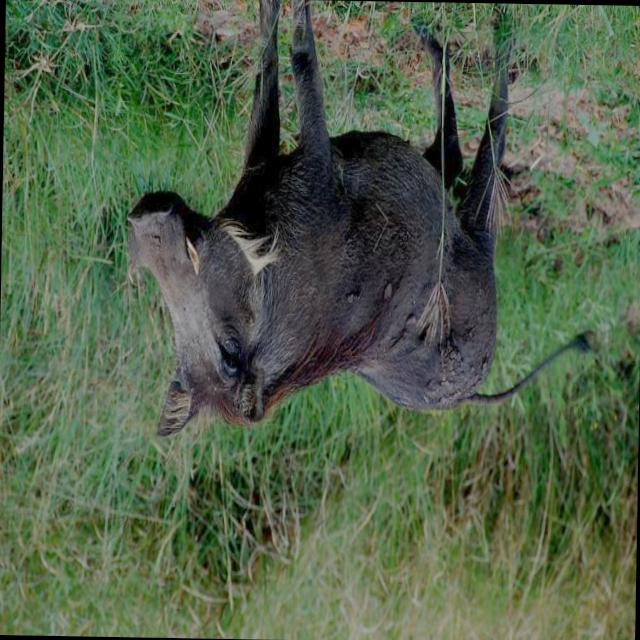pig: (127, 0, 592, 436)
